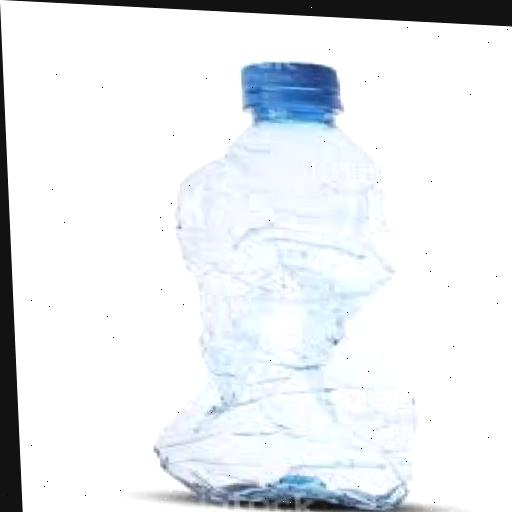bottle: (119, 37, 443, 512)
